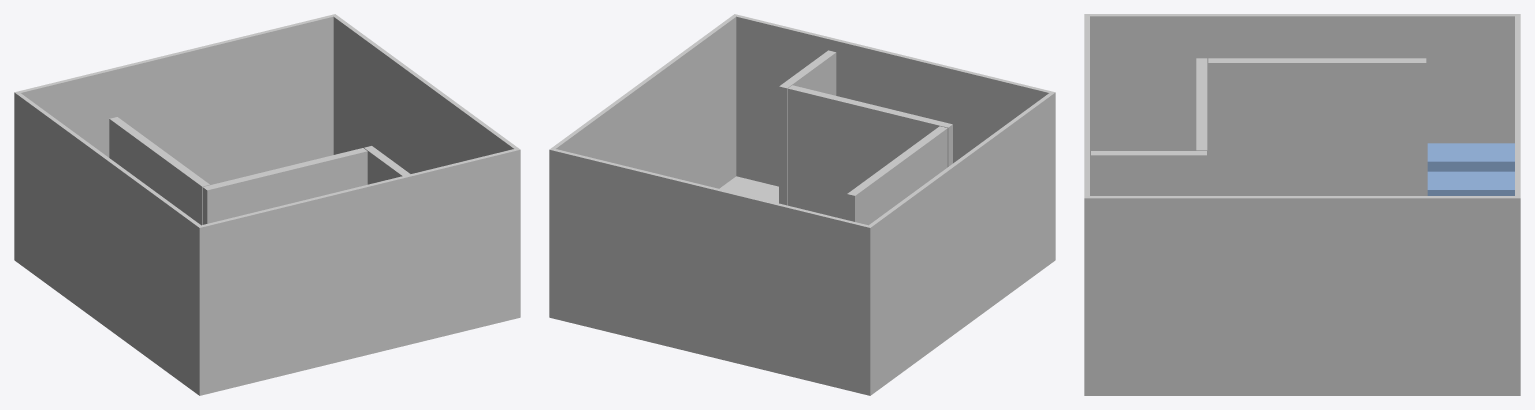
File: TestEnvironment.gltf
The picture shows the model from 3 angles, left to right: view 1: azimuth 30°, elevation 25°; view 2: azimuth 150°, elevation 25°; view 3: azimuth 270°, elevation 25°; orthographic projection. The views are drawn at different scales.
Parts seen in each view (by area): view 1: Level, Walls; view 2: Level, Walls; view 3: Level, Walls, Stairs.
Boxes of the visible parts, x1=… form: Level: x1=14, y1=14, x2=520, y2=395; Walls: x1=109, y1=117, x2=410, y2=225; Level: x1=549, y1=14, x2=1055, y2=395; Walls: x1=779, y1=50, x2=952, y2=225; Level: x1=1084, y1=14, x2=1520, y2=395; Walls: x1=1091, y1=58, x2=1426, y2=195; Stairs: x1=1427, y1=143, x2=1514, y2=195.
Size of the model in its own units: 2000 by 1000 by 2000.
